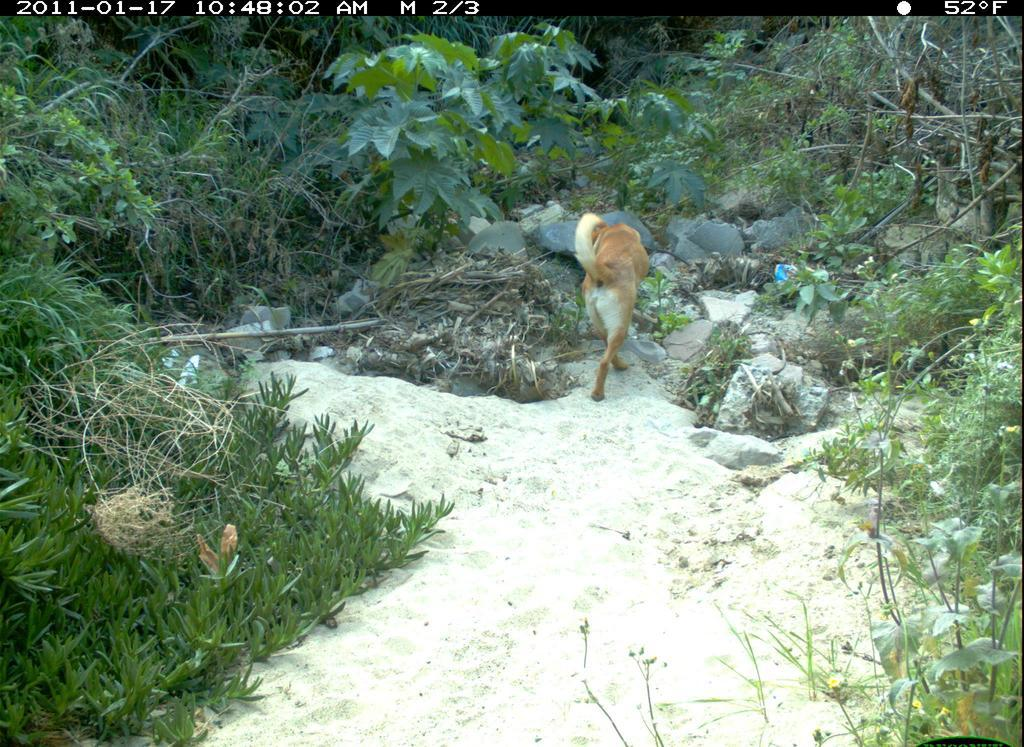dog: (560, 209, 656, 406)
